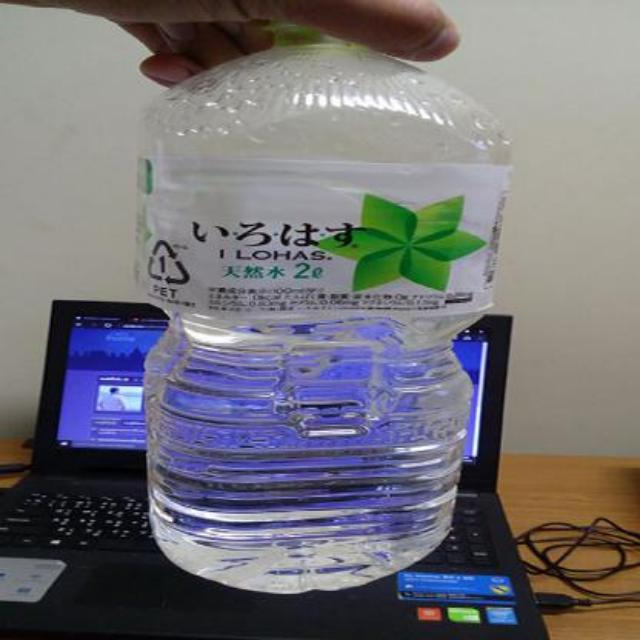plastic_bottle: (135, 23, 516, 586)
